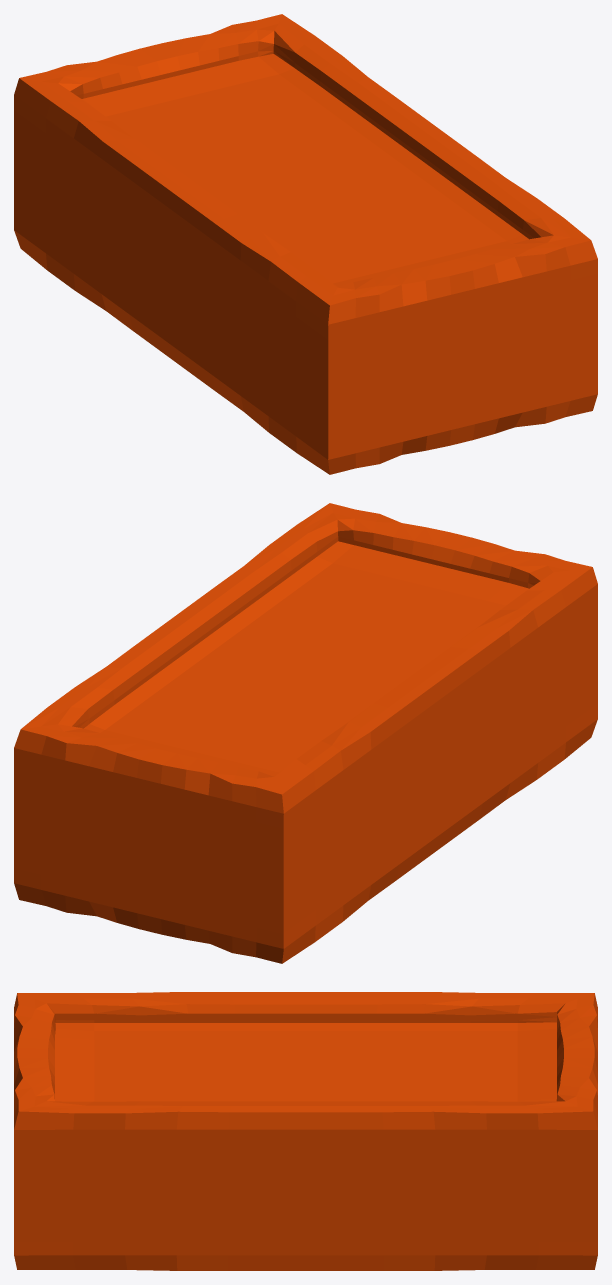
The model's file is brick.fbx.
The picture shows the model from 3 angles, top to bottom: view 1: azimuth 30°, elevation 25°; view 2: azimuth 150°, elevation 25°; view 3: azimuth 270°, elevation 25°; orthographic projection. The views are drawn at different scales.
Visible parts, largest first — view 1: Cube; view 2: Cube; view 3: Cube.
Boxes of the visible parts, bbox=[...] form: Cube: bbox=[14, 14, 597, 474]; Cube: bbox=[14, 503, 597, 963]; Cube: bbox=[14, 992, 597, 1270].
Bounding box in the file's own units: 102 × 61.56 × 205.
